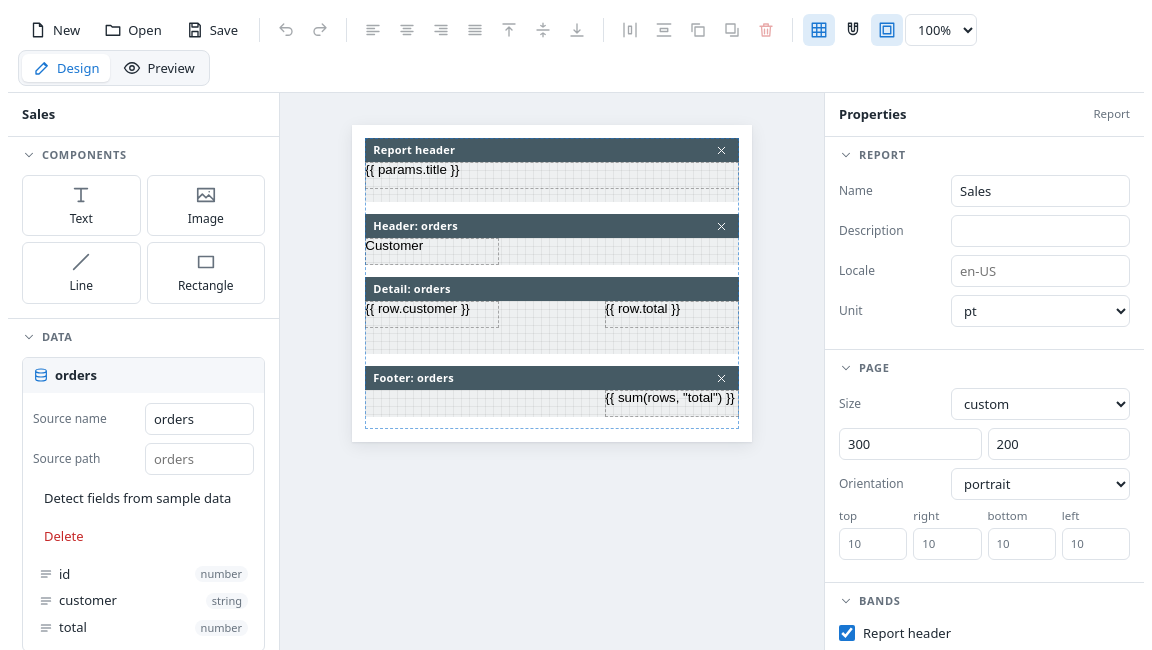
Scenario: ReportDesigner: toolbar › shows save errors
Click the button "Save".
click(212, 30)  # box [175,14,249,46]
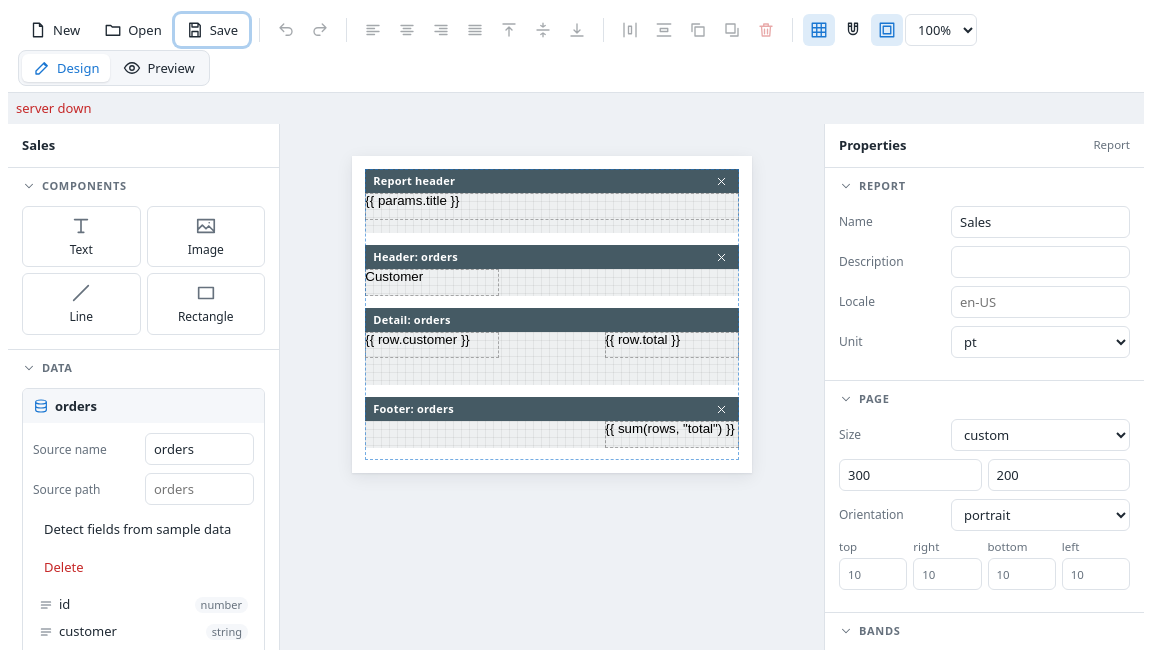
Expected: the message reads "server down", [16,99,92,117]
